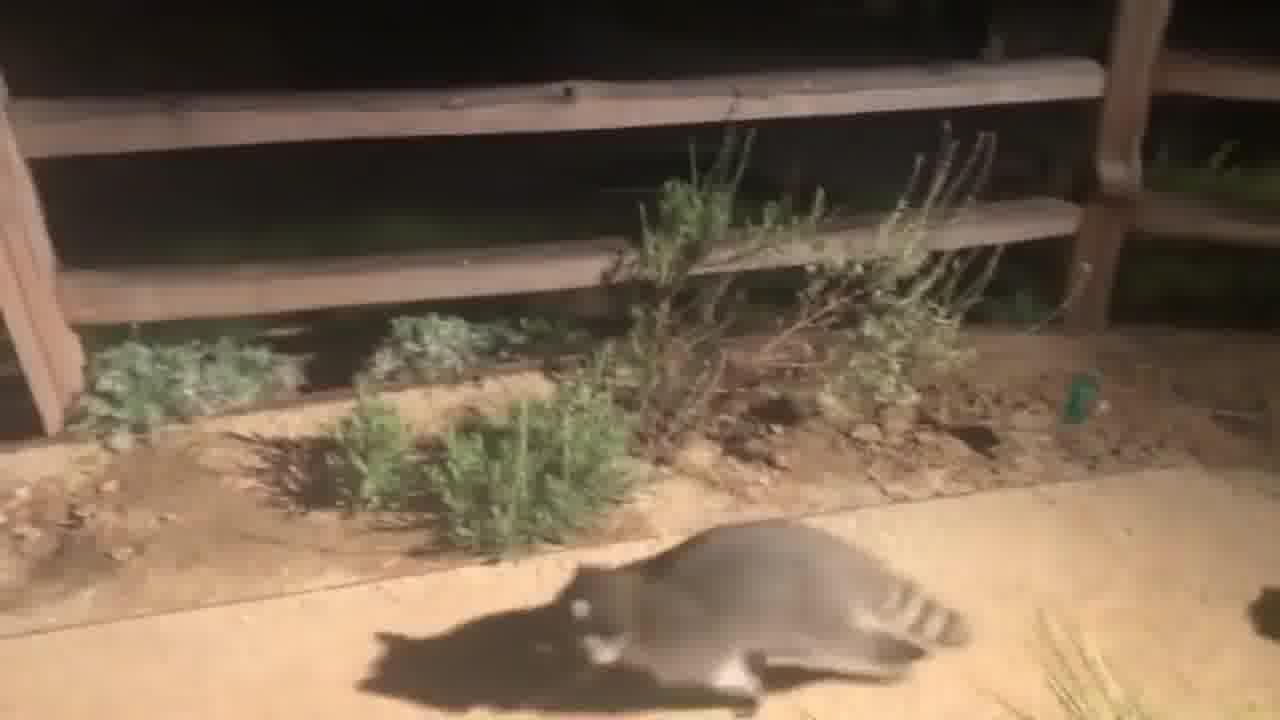raccoon: (523, 499, 992, 720)
